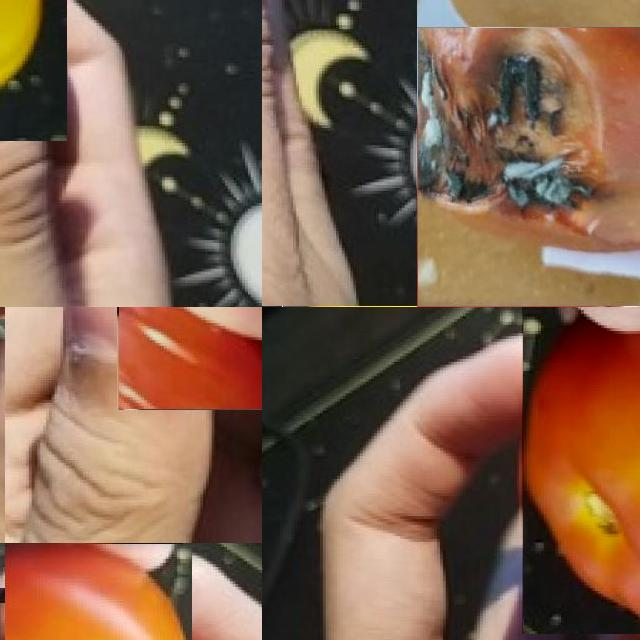Fresh Tomato: (522, 322, 640, 619), (5, 544, 187, 640)
Rotten Tomato: (417, 27, 640, 306), (118, 307, 262, 409)
